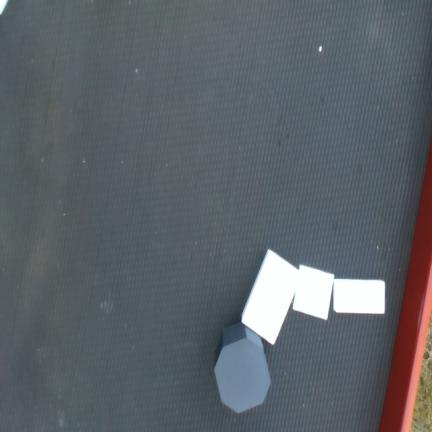Paralelepipedo: (241, 248, 300, 346), (333, 278, 385, 314)
Piramide: (292, 264, 335, 321)
Prisma_hexagonal: (214, 322, 272, 413)
